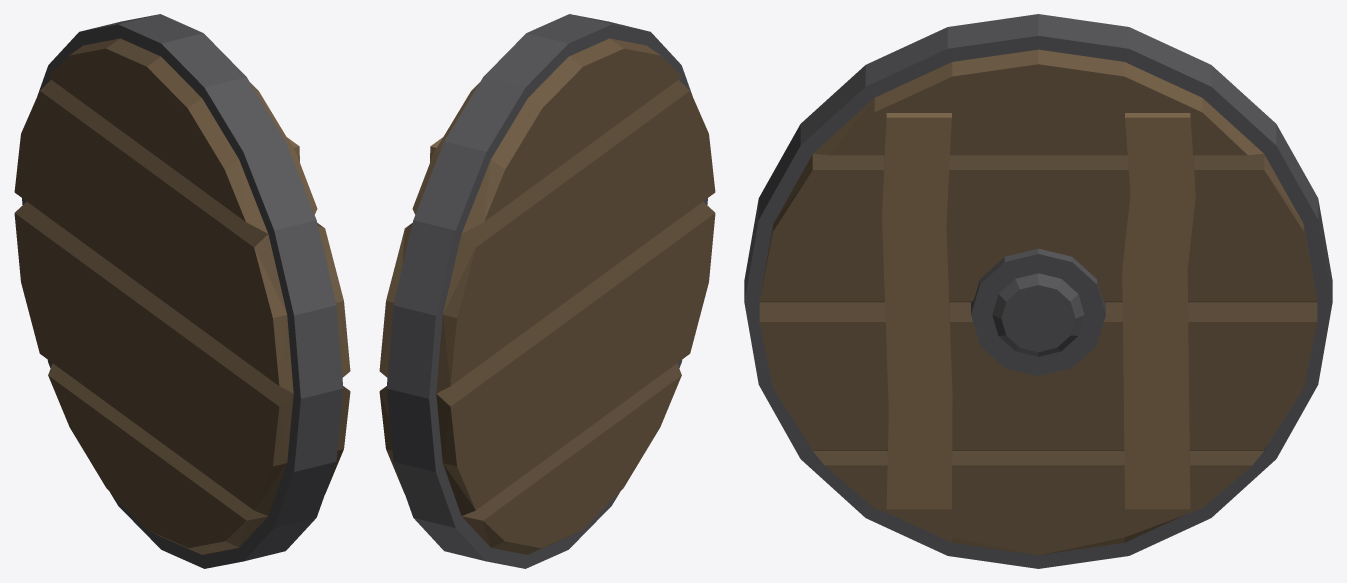
The model's file is cart_wheel.glb.
3 views of the same model, side by side, from view 1: azimuth 30°, elevation 25°; view 2: azimuth 150°, elevation 25°; view 3: azimuth 270°, elevation 25° (orthographic). The views are drawn at different scales.
Visible parts, largest first — view 1: SM_Prop_Cart_Wheel_01; view 2: SM_Prop_Cart_Wheel_01; view 3: SM_Prop_Cart_Wheel_01.
Boxes of the visible parts, <box> form: SM_Prop_Cart_Wheel_01: <box>14,14,350,568</box>; SM_Prop_Cart_Wheel_01: <box>379,14,715,568</box>; SM_Prop_Cart_Wheel_01: <box>744,14,1332,568</box>.
Bounding box in the file's own units: 17.52 × 95.7 × 95.7.
Materials: 1 (1 with a texture image).
